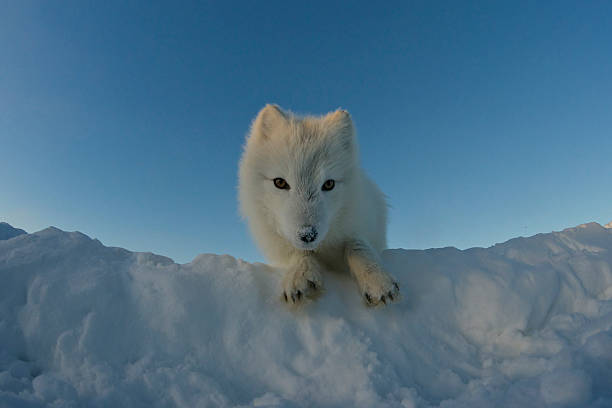arcticfox: (251, 128, 364, 262)
